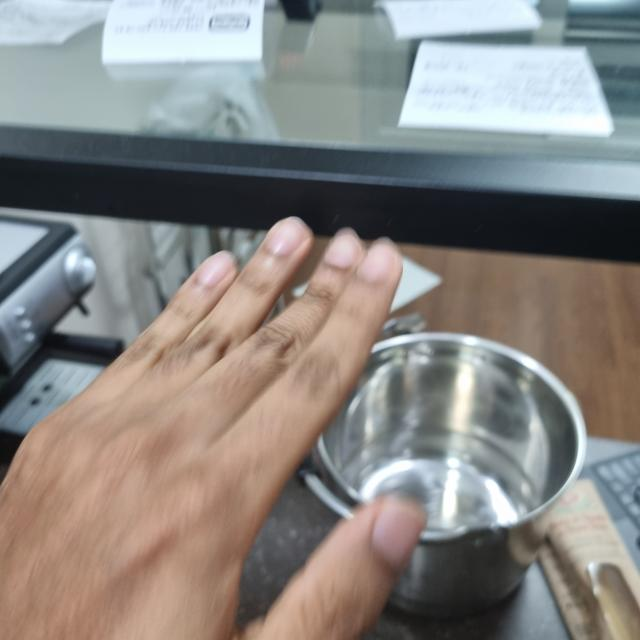Paper: (0, 219, 421, 639)
